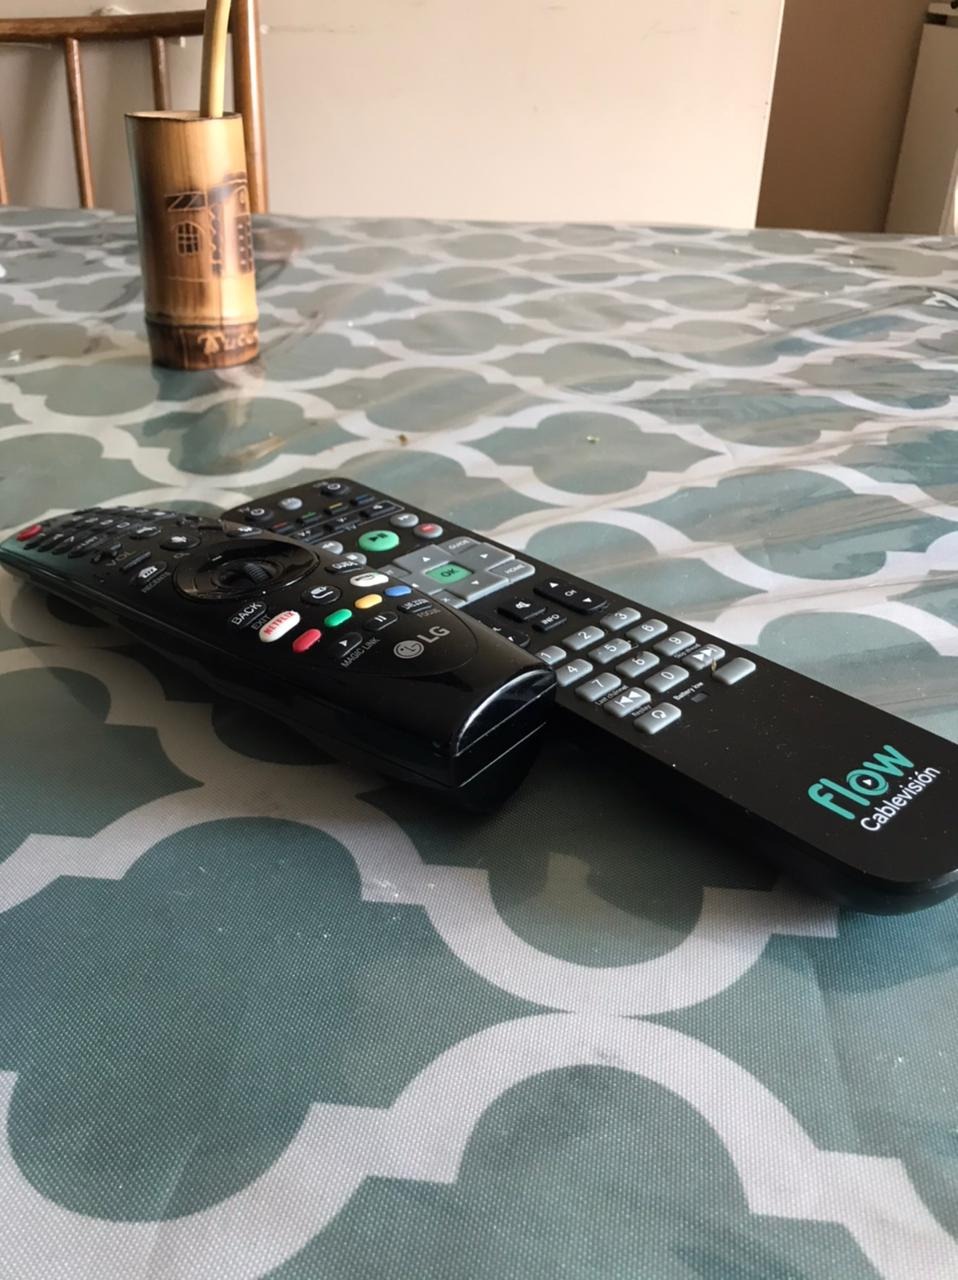mate: (108, 1, 287, 382)
